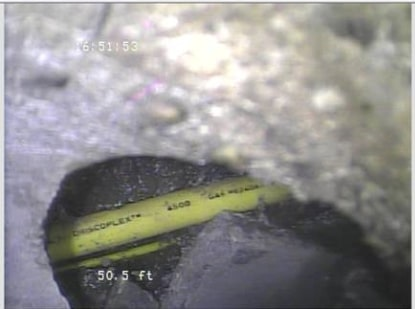cb: (25, 167, 309, 270)
